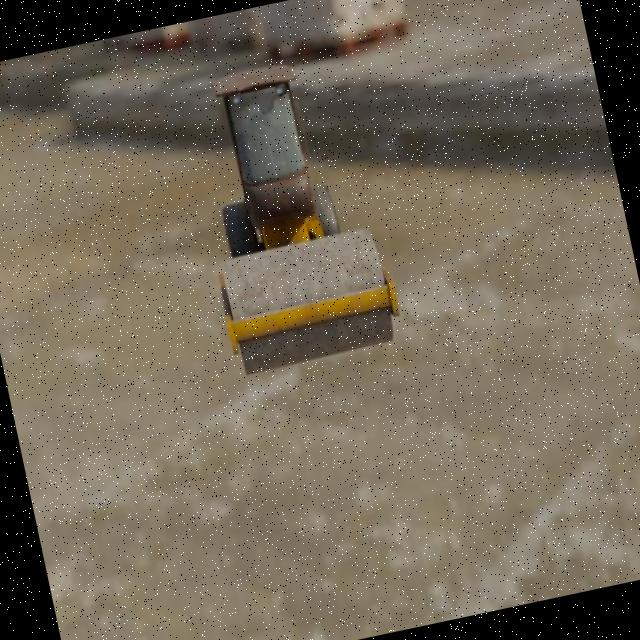Roller: (175, 48, 406, 376)
